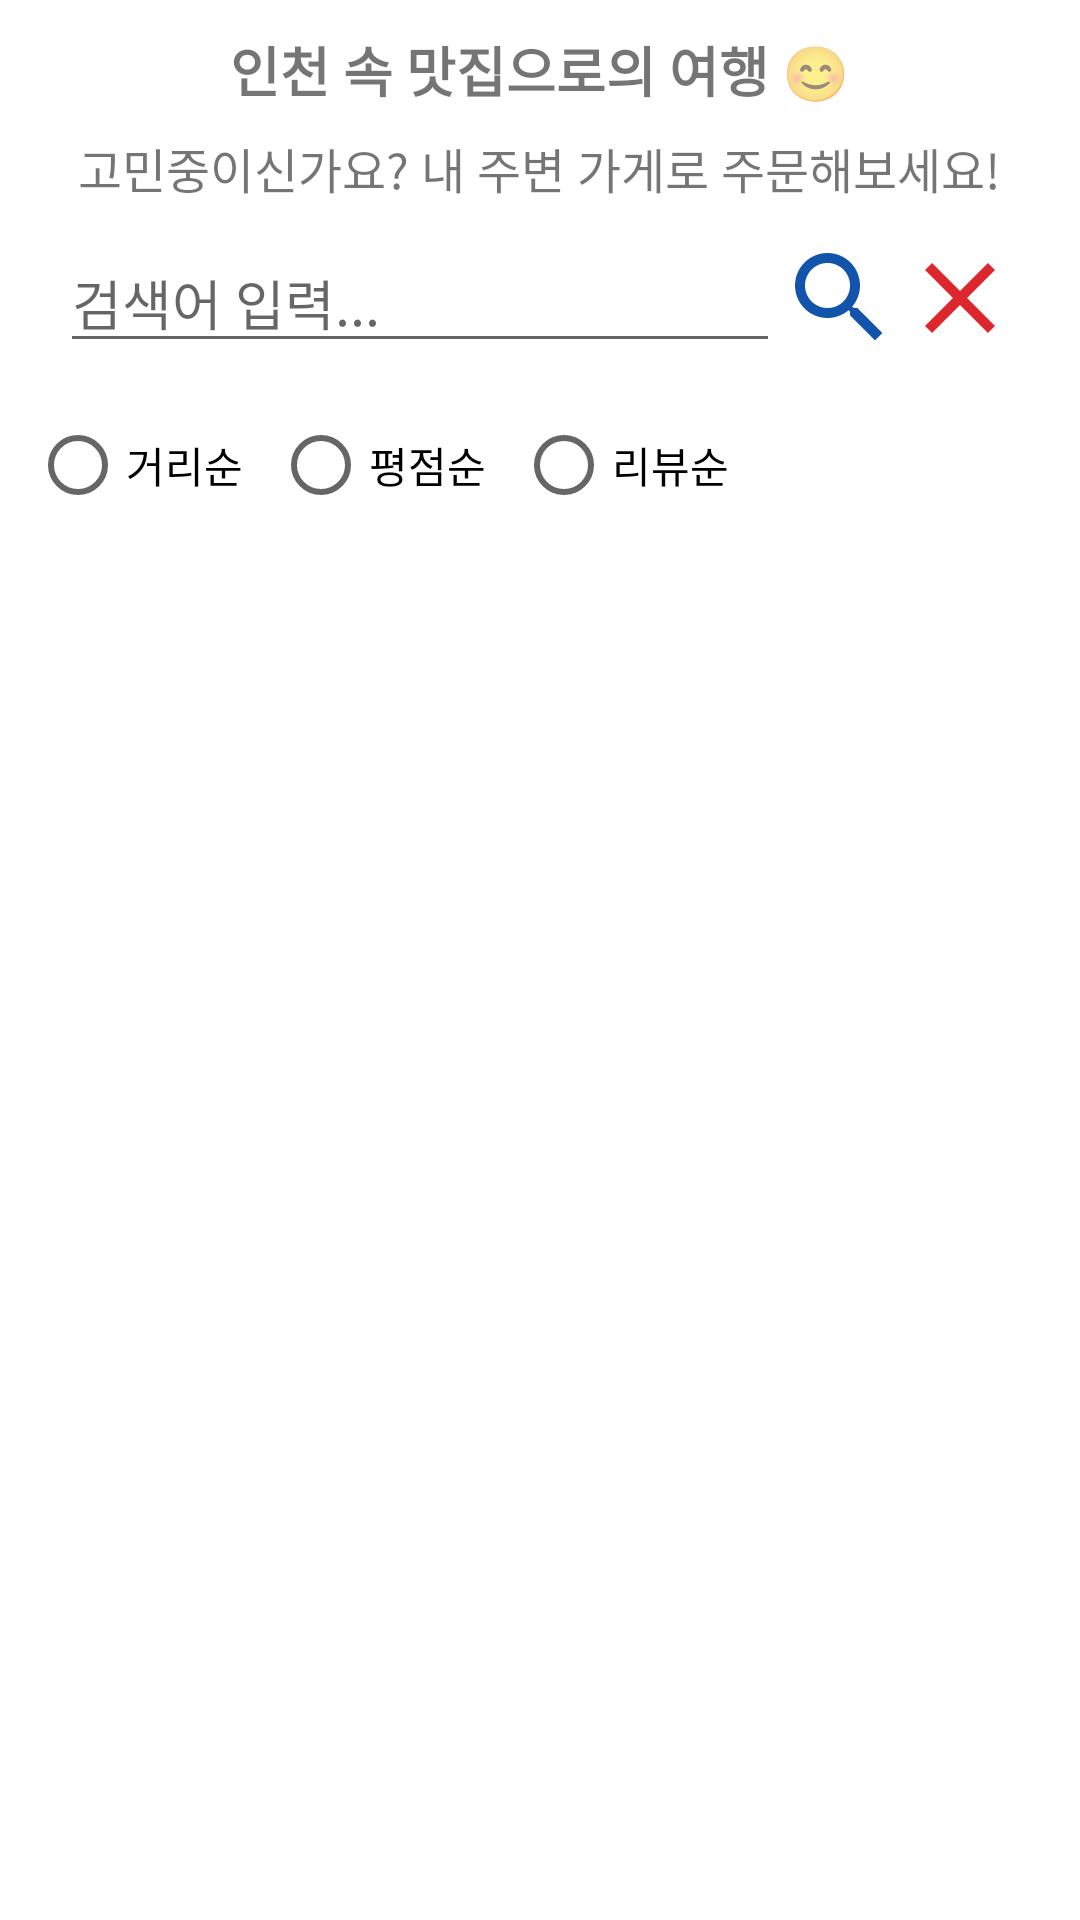

Icons on this 1080×1920 Android screen, each with its box as box(x1, y1, x2, y2):
close: box(925, 263, 995, 333)
search: box(795, 253, 882, 340)
